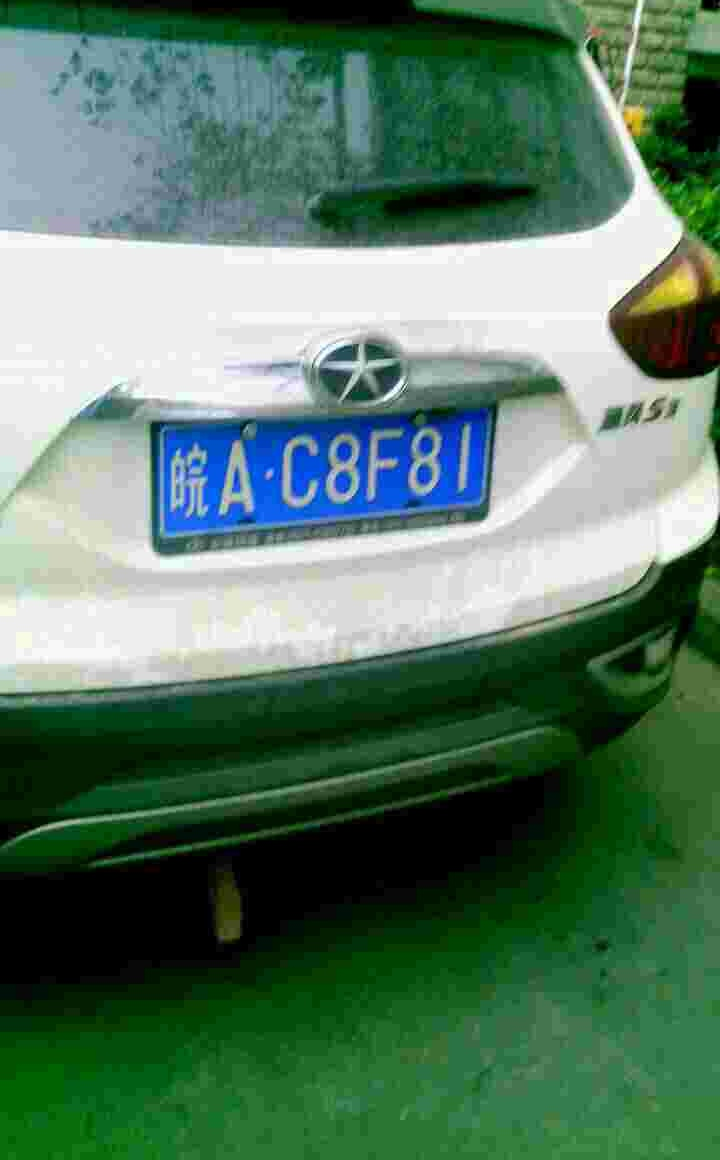license_plate: (163, 413, 488, 542)
